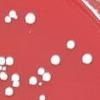white: (22, 10, 38, 26), (80, 50, 94, 66), (48, 52, 62, 67), (64, 37, 77, 51), (2, 85, 16, 97), (41, 71, 53, 83), (4, 55, 15, 68), (2, 14, 13, 26), (27, 75, 39, 86), (9, 72, 21, 82), (7, 9, 18, 19), (36, 92, 49, 100), (36, 66, 46, 76), (0, 71, 9, 82), (10, 80, 21, 88), (0, 54, 7, 65), (1, 64, 8, 74), (13, 14, 20, 21), (37, 81, 43, 88), (0, 64, 2, 72)
